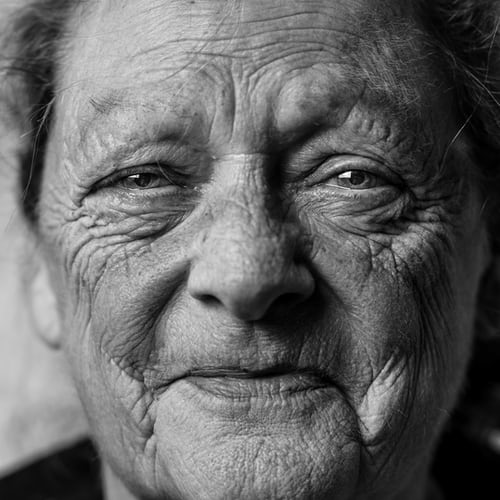WRINKLES: (165, 41, 318, 82), (208, 86, 268, 185), (58, 195, 168, 241), (327, 217, 434, 260), (343, 376, 383, 469), (403, 197, 452, 271), (271, 26, 344, 74), (359, 348, 407, 420), (111, 351, 157, 411), (129, 400, 163, 480), (362, 373, 389, 469), (72, 227, 99, 295), (84, 231, 153, 255)
